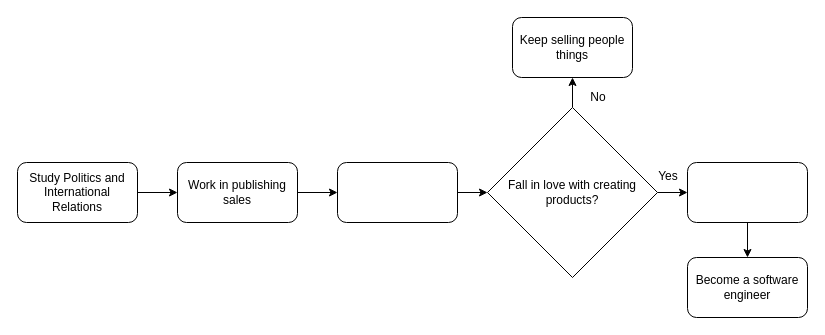
This 825x335 diagram has some shape labels left out. The shapes that lost their labels are listed below. From the top down, each one's centre as x and y in pixels, then its label:
the point at 397,192: Help to found an EdTech start up
the point at 747,192: Attend a coding bootcamp
